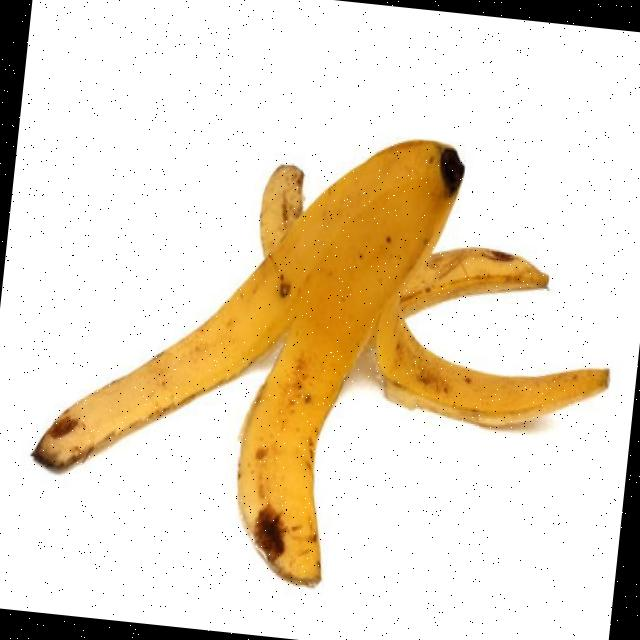banana-peel: (19, 99, 632, 616), (218, 120, 468, 598), (365, 234, 622, 439)
